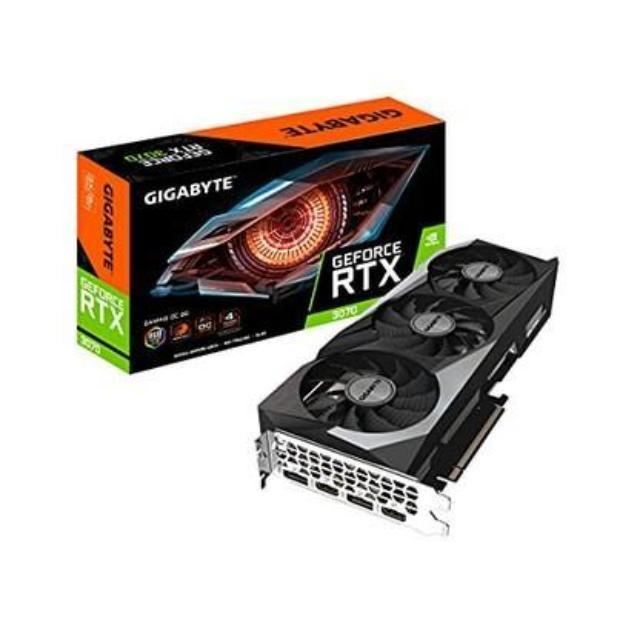GPU: (258, 243, 562, 511)
